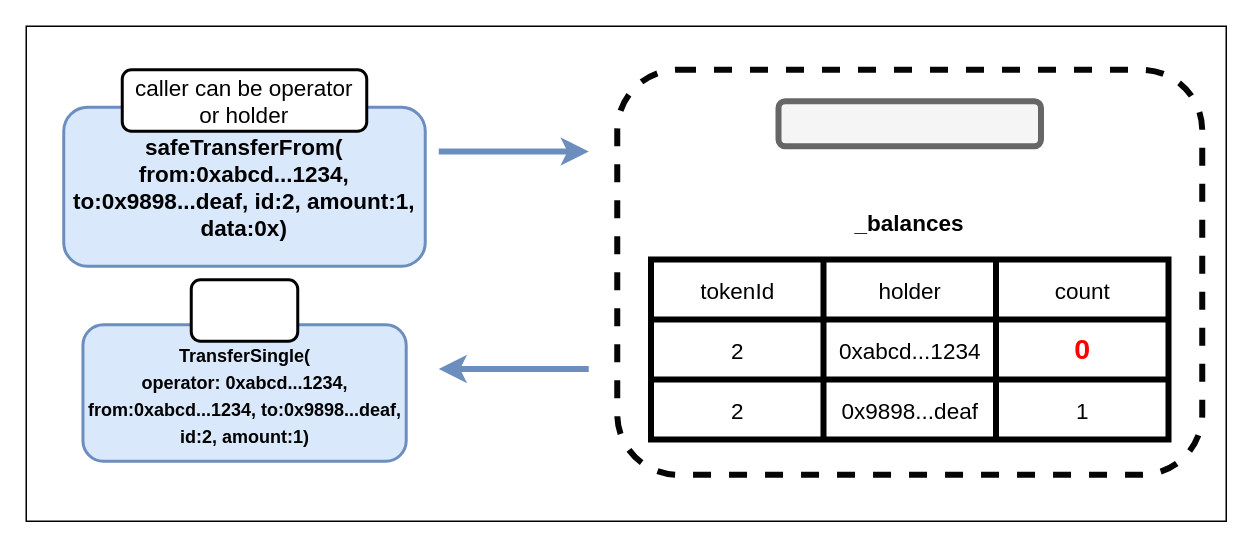
The diagram is 1253 pixels wide and 548 high, and some of its shapes have lost their labels. The centre of each missing label's shape, as x and y in pixels:
"ERC1155 NFT Contract" belongs at (x=909, y=123).
"Event" belongs at (x=243, y=310).
